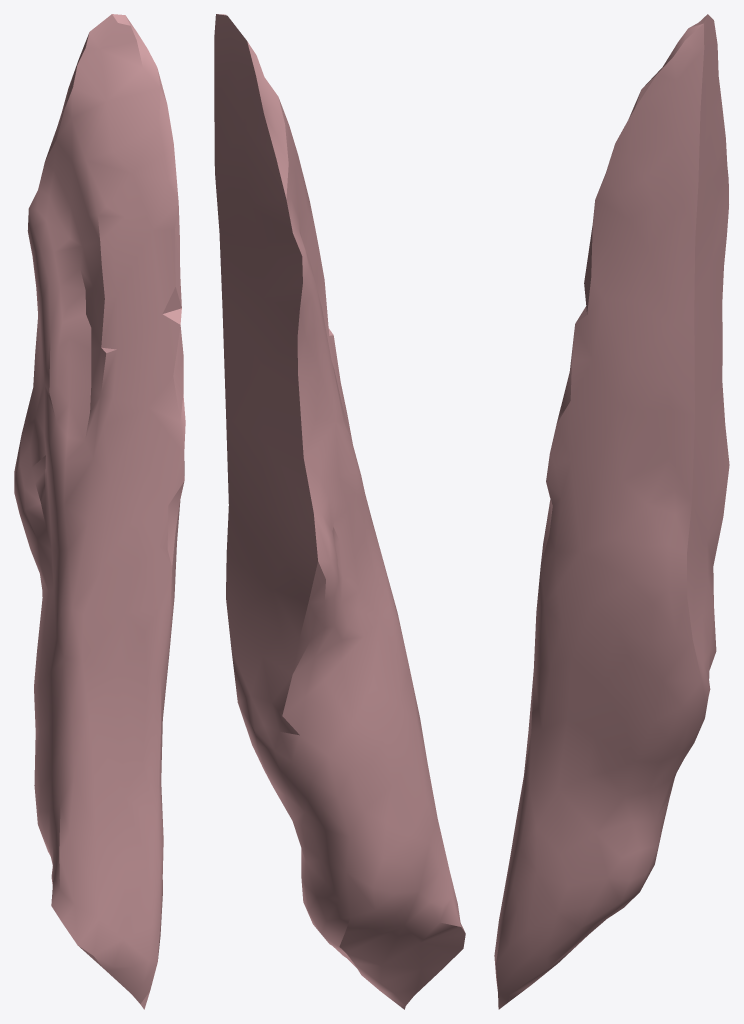
Rendered from fma47094_mm1687.glb.
3 views of the same model, side by side, from view 1: azimuth 30°, elevation 25°; view 2: azimuth 150°, elevation 25°; view 3: azimuth 270°, elevation 25° (orthographic). The views are drawn at different scales.
Visible parts, largest first — view 1: FMA47094_MM1687; view 2: FMA47094_MM1687; view 3: FMA47094_MM1687.
Part boxes in pixels (bbox=[...]): FMA47094_MM1687: bbox=[14, 14, 185, 1009]; FMA47094_MM1687: bbox=[214, 14, 465, 1009]; FMA47094_MM1687: bbox=[494, 14, 729, 1009].
Size of the model in its own units: 0.0102 by 0.0577 by 0.0119.
